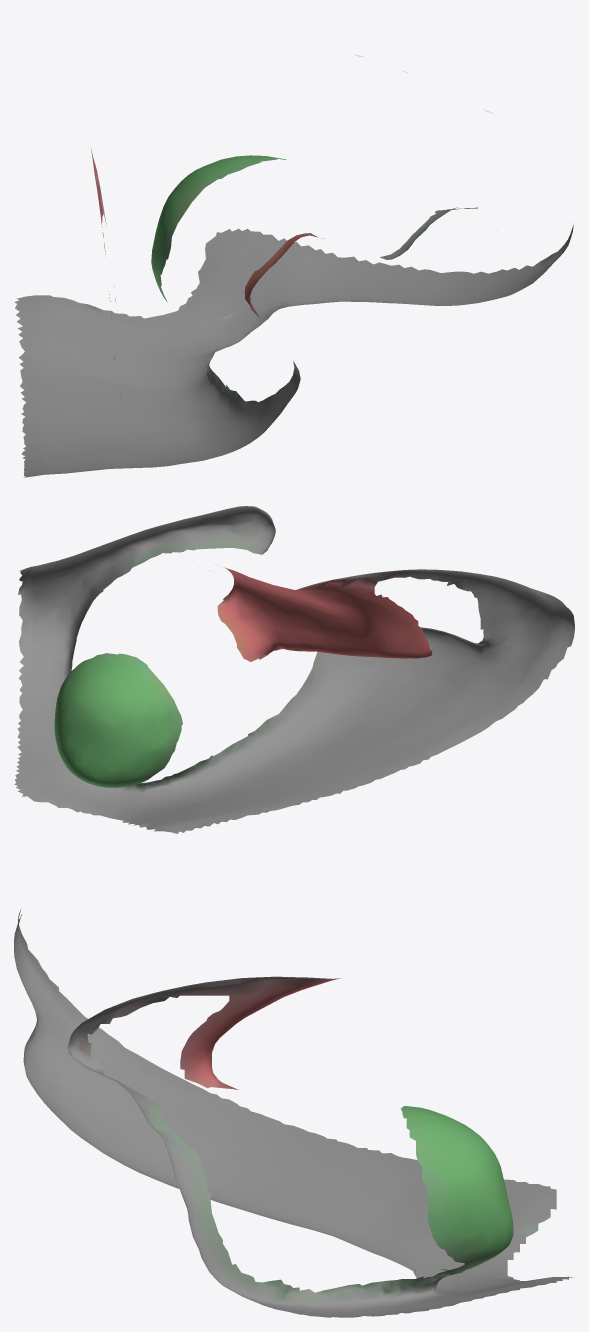
3 renders of one model, top to bottom at view 1: azimuth 30°, elevation 25°; view 2: azimuth 150°, elevation 25°; view 3: azimuth 270°, elevation 25°, orthographic. The views are drawn at different scales.
Bounding box in the file's own units: 1.99 × 0.9041 × 1.54.
